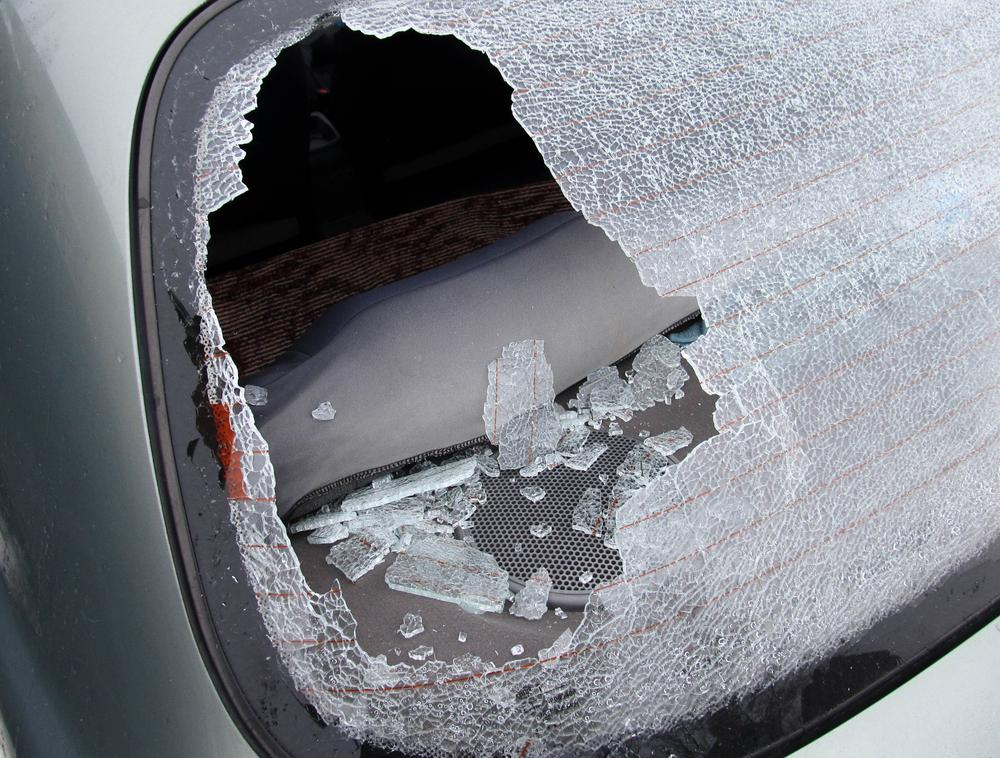glass shatter: (150, 0, 1000, 758)
